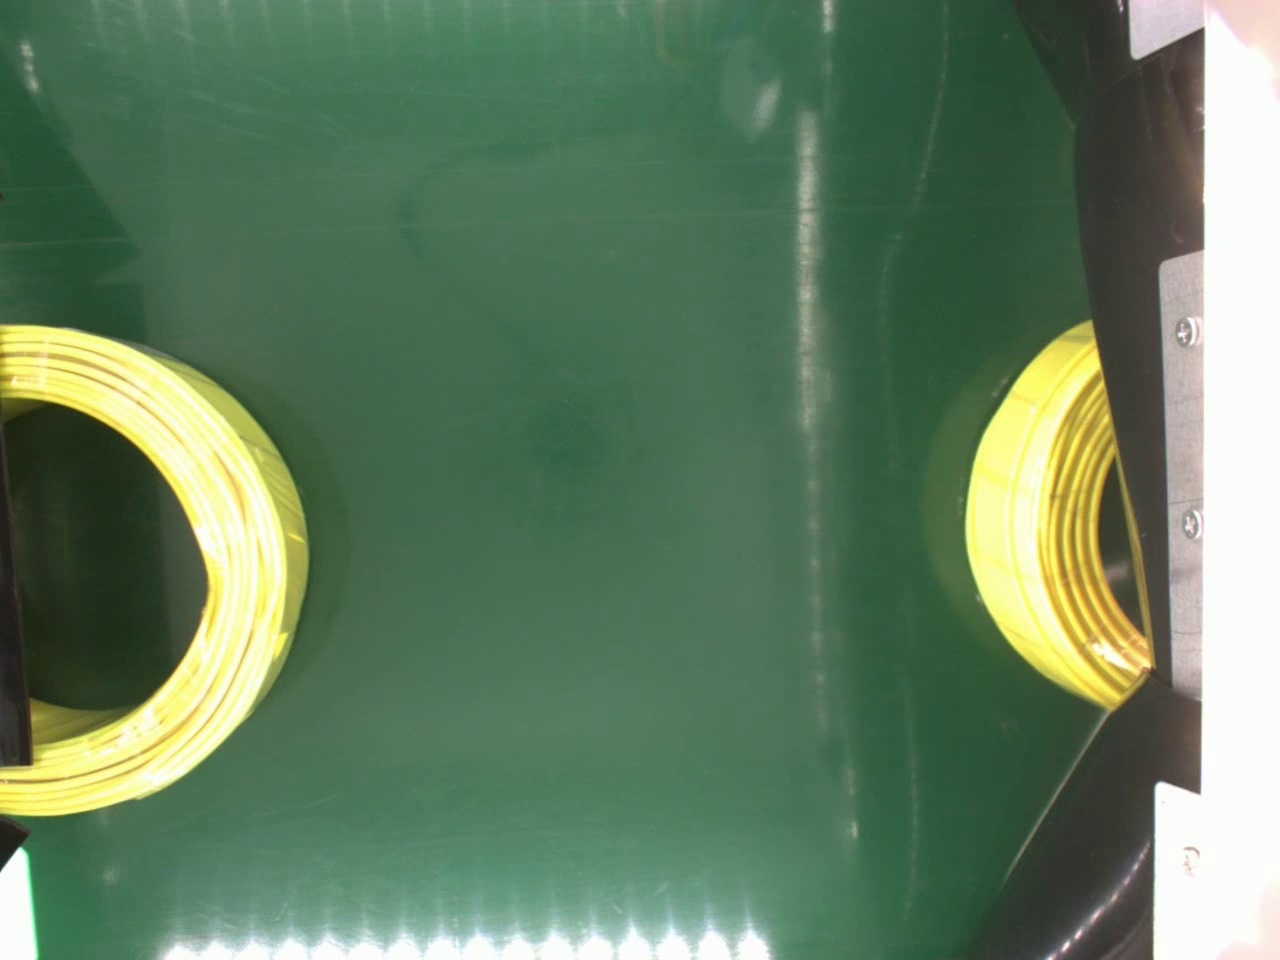yellow: (0, 323, 313, 823), (959, 314, 1144, 705)
